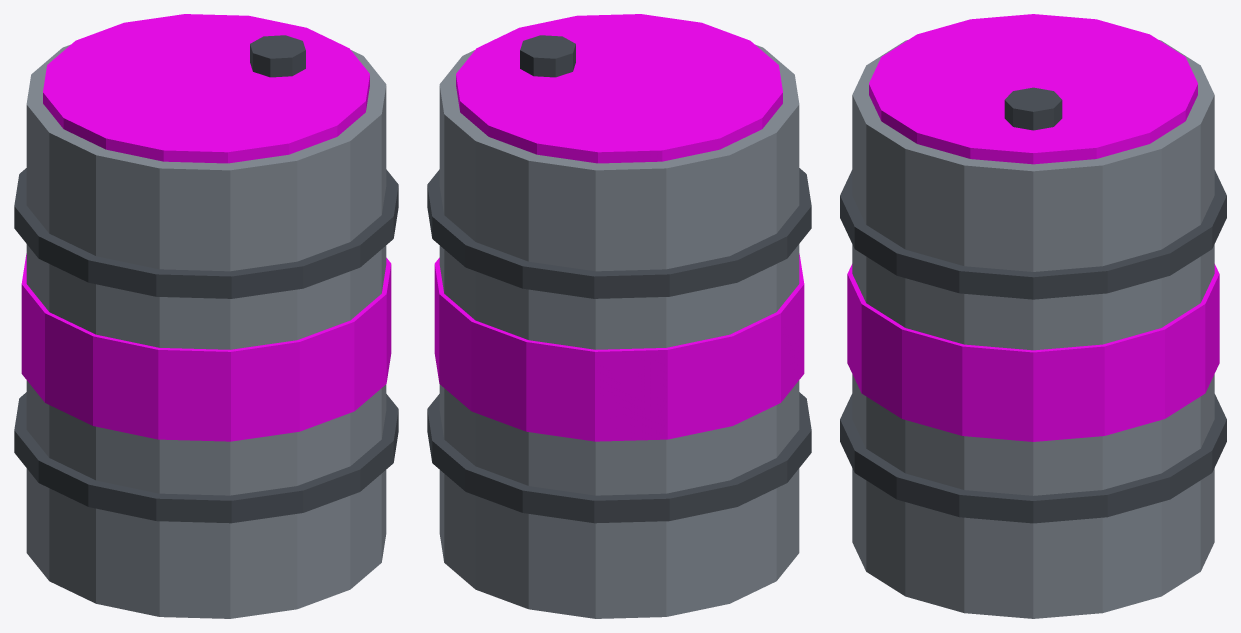
Rendered from objet_baril.glb.
3 views of the same model, side by side, from view 1: azimuth 30°, elevation 25°; view 2: azimuth 150°, elevation 25°; view 3: azimuth 270°, elevation 25° (orthographic).
Parts seen in each view (by area): view 1: fut.002, baril_teinte.002, baril_acier_sombre.002; view 2: fut.002, baril_teinte.002, baril_acier_sombre.002; view 3: fut.002, baril_teinte.002, baril_acier_sombre.002.
Boxes of the visible parts, box(x1,y1,x2,y2) form: fut.002: box(26, 44, 386, 618); baril_teinte.002: box(21, 14, 391, 441); baril_acier_sombre.002: box(14, 35, 398, 523); fut.002: box(439, 44, 799, 618); baril_teinte.002: box(434, 14, 804, 441); baril_acier_sombre.002: box(427, 35, 811, 523); fut.002: box(852, 40, 1214, 618); baril_teinte.002: box(847, 14, 1219, 441); baril_acier_sombre.002: box(840, 87, 1226, 523).
Size of the model in its own units: 0.235 by 0.32 by 0.235.
